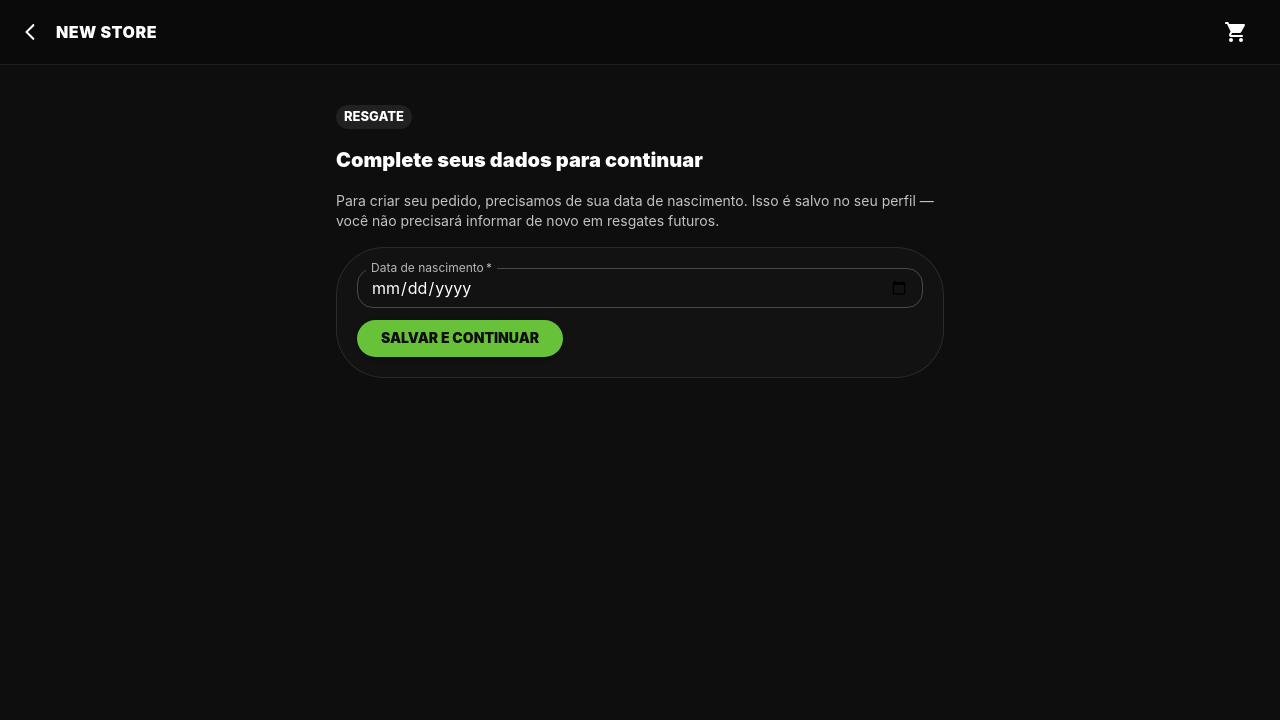
Test: salvar data de nascimento libera o fluxo normal sem pedir de novo
The width and height of the screenshot is (1280, 720).
Type "1990-05-20" into the date field labelled "Data de nascimento *".
click(640, 288); type("1990-05-20")  # box [357,268,923,308]
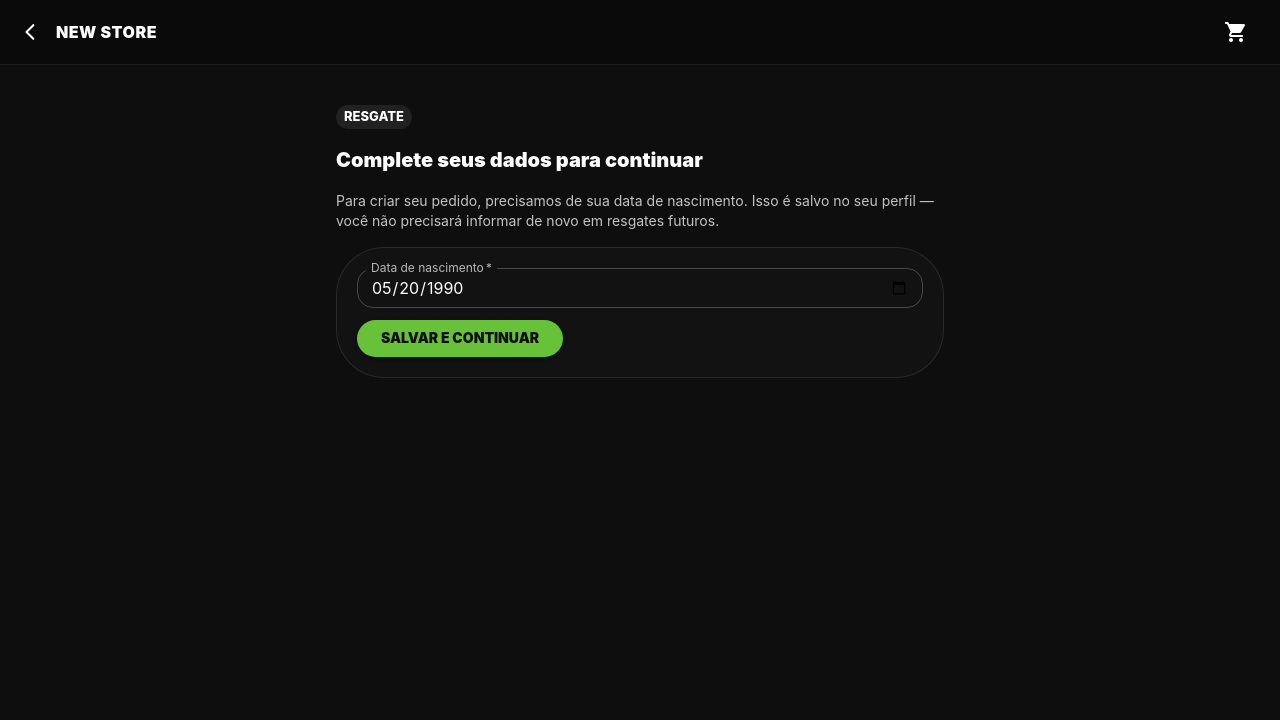
Click the button "SALVAR E CONTINUAR".
click(460, 338)  # box [357,320,563,356]
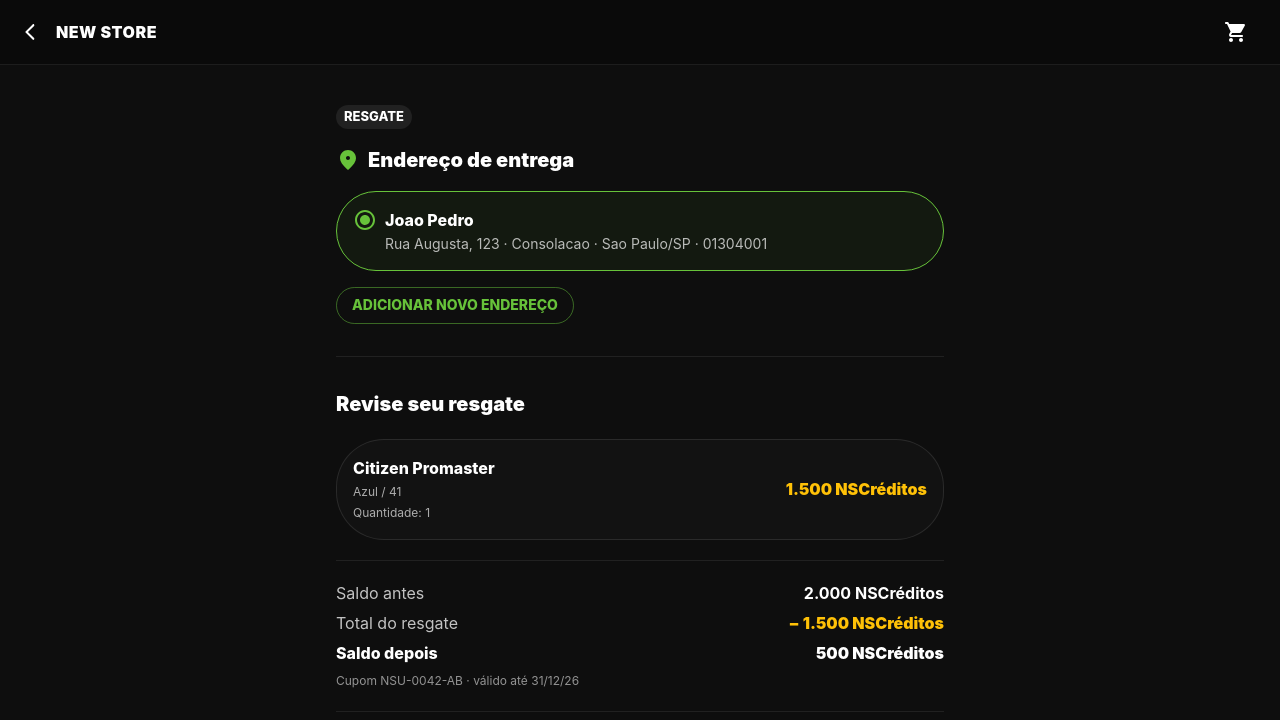
Now the text "Citizen Promaster" is shown, box [353,458,495,478]
